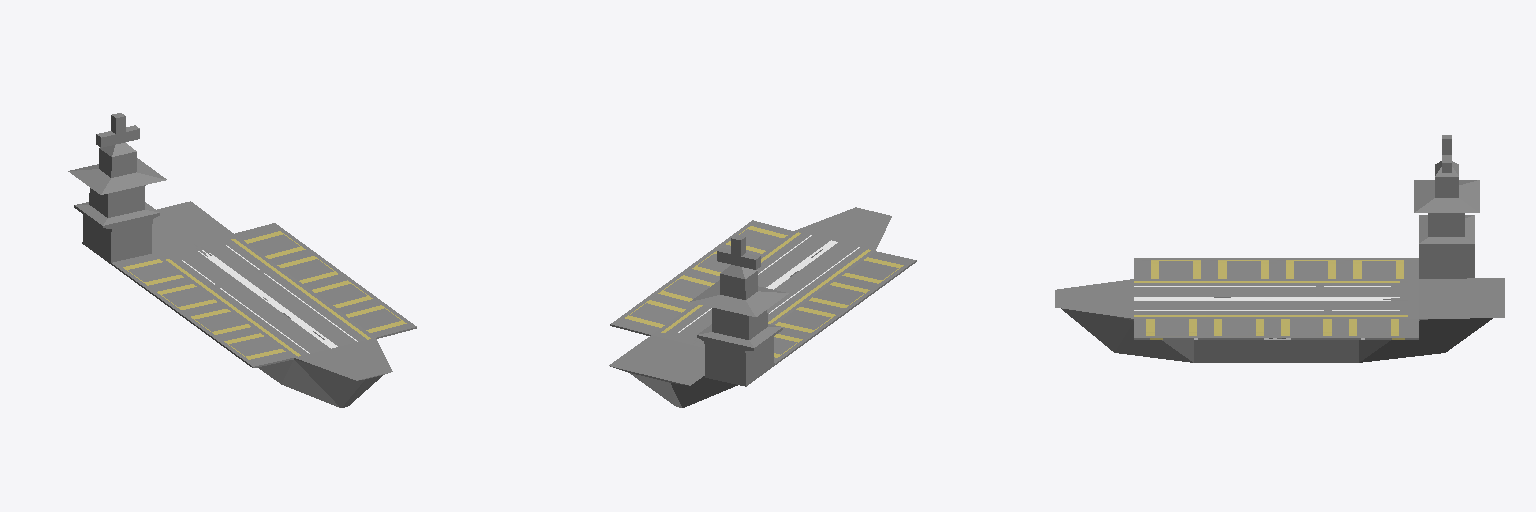
The picture shows the model from 3 angles: view 1: azimuth 30°, elevation 25°; view 2: azimuth 150°, elevation 25°; view 3: azimuth 270°, elevation 25°; orthographic projection.
Visible parts, largest first — view 1: 立方体.002; view 2: 立方体.002; view 3: 立方体.002.
Boxes of the visible parts, x1,y1,x2,y2 form: 立方体.002: [68, 113, 416, 407]; 立方体.002: [609, 207, 916, 407]; 立方体.002: [1055, 135, 1504, 362].
Size of the model in its own units: 43.03 by 43.2 by 95.01.
Materials: 1 (1 with a texture image).